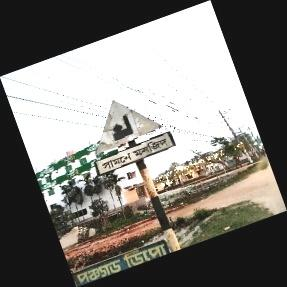Mosque in front: (95, 100, 170, 176)
